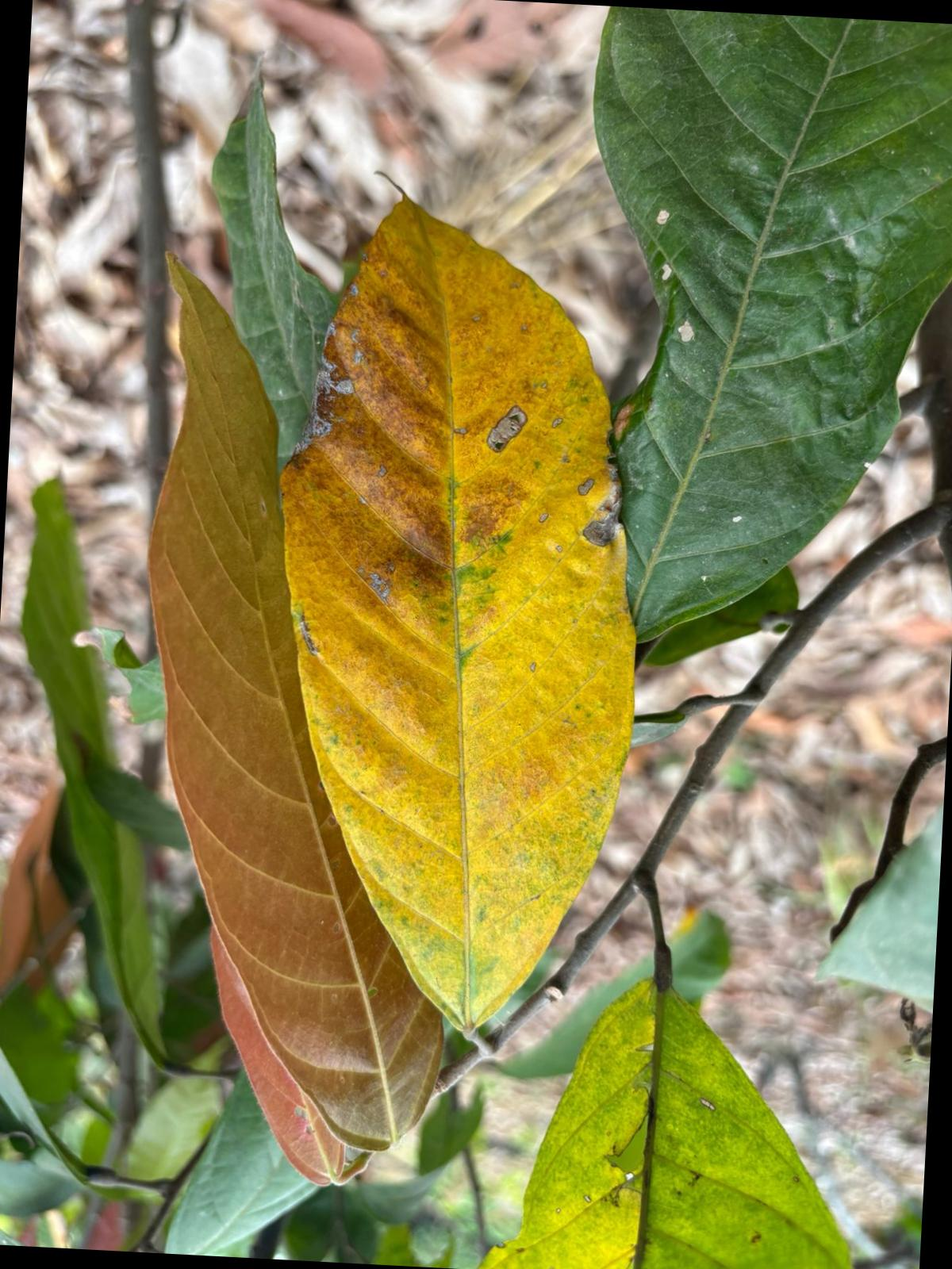Fosforo: (282, 198, 635, 1030)
